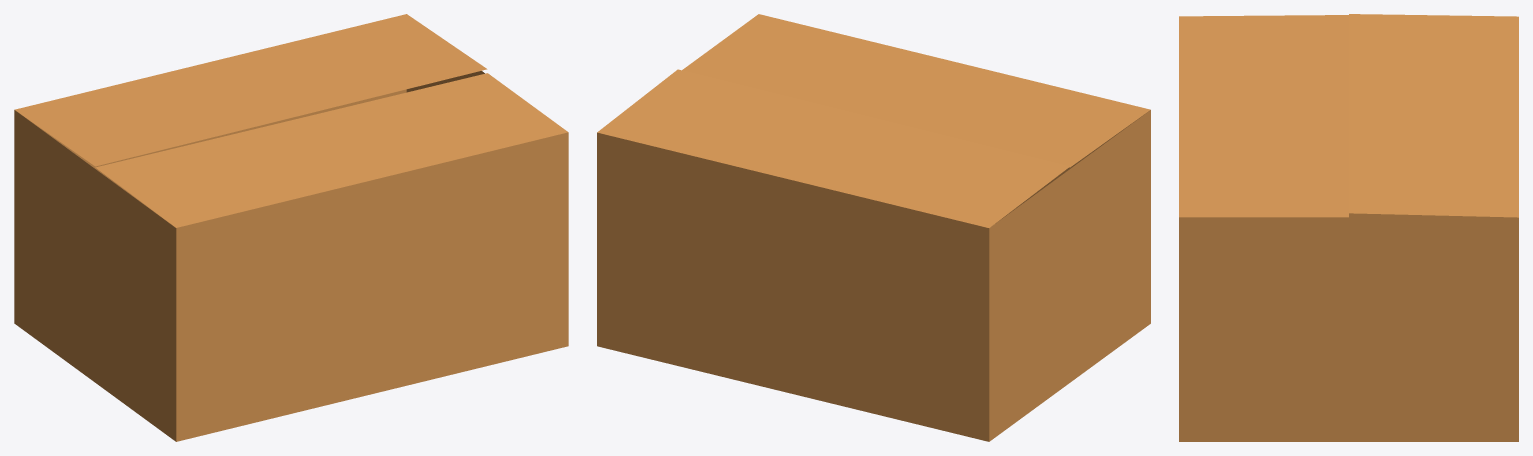
3 renders of one model, left to right at view 1: azimuth 30°, elevation 25°; view 2: azimuth 150°, elevation 25°; view 3: azimuth 270°, elevation 25°, orthographic. The views are drawn at different scales.
Parts seen in each view (by area): view 1: Cube.005; view 2: Cube.005; view 3: Cube.005.
Boxes of the visible parts, bbox=[...] form: Cube.005: bbox=[14, 14, 568, 441]; Cube.005: bbox=[597, 14, 1150, 441]; Cube.005: bbox=[1179, 14, 1518, 441].
Bounding box in the file's own units: 2.8 × 1.48 × 2.
